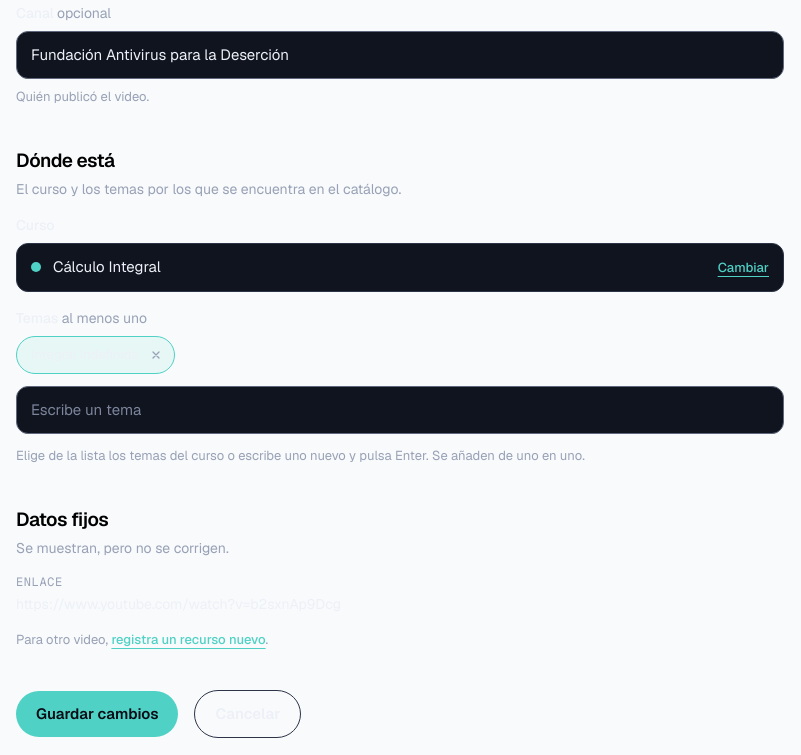
Test: EditResourcePage › si lo retiraron mientras se corregía, lo dice en un aviso
(page scrolled)
Click the button "Guardar cambios".
click(97, 714)  # box [16, 691, 178, 737]
(page scrolled)
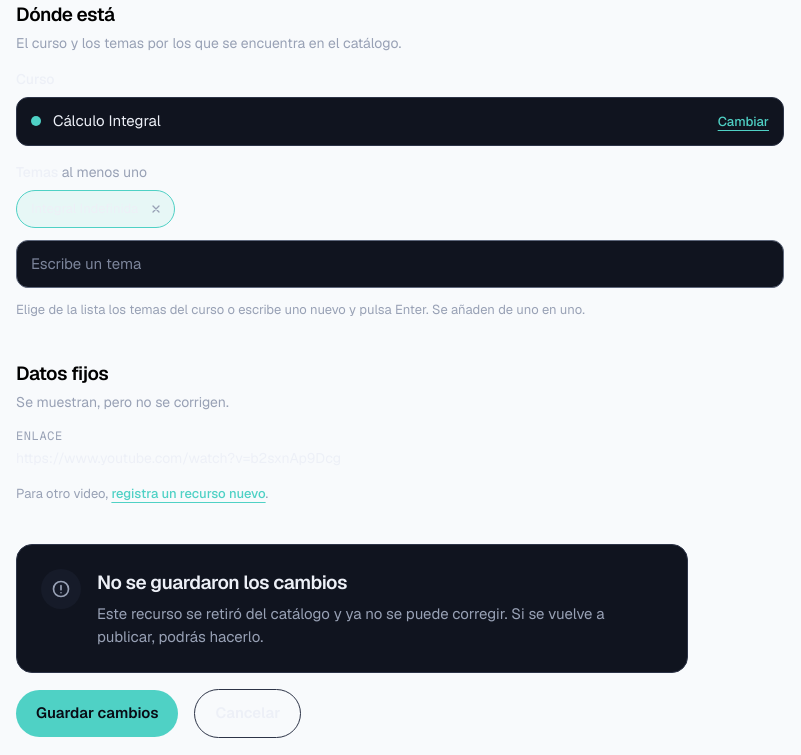
Now the message shows "No se guardaron los cambios", box [97, 570, 347, 595]
Now the message shows "Este recurso se retiró del catálogo y ya no se puede corregir.", box [97, 604, 604, 646]
